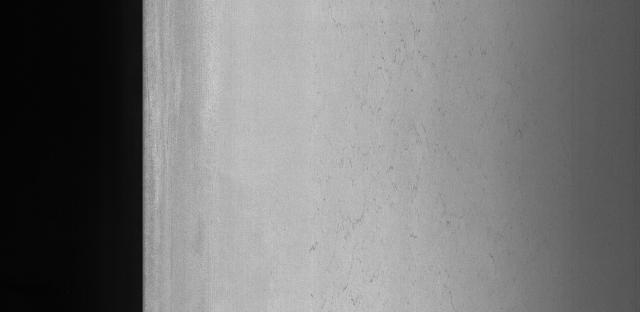silk_spot: (325, 10, 473, 247)
